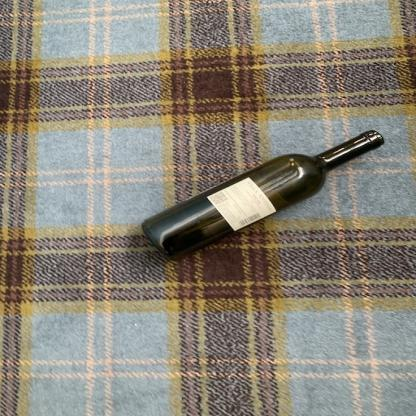trash: (139, 128, 384, 262)
